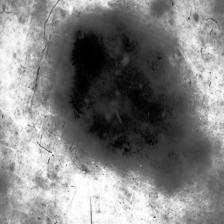Benign Marking or Mole: (56, 14, 208, 183)
